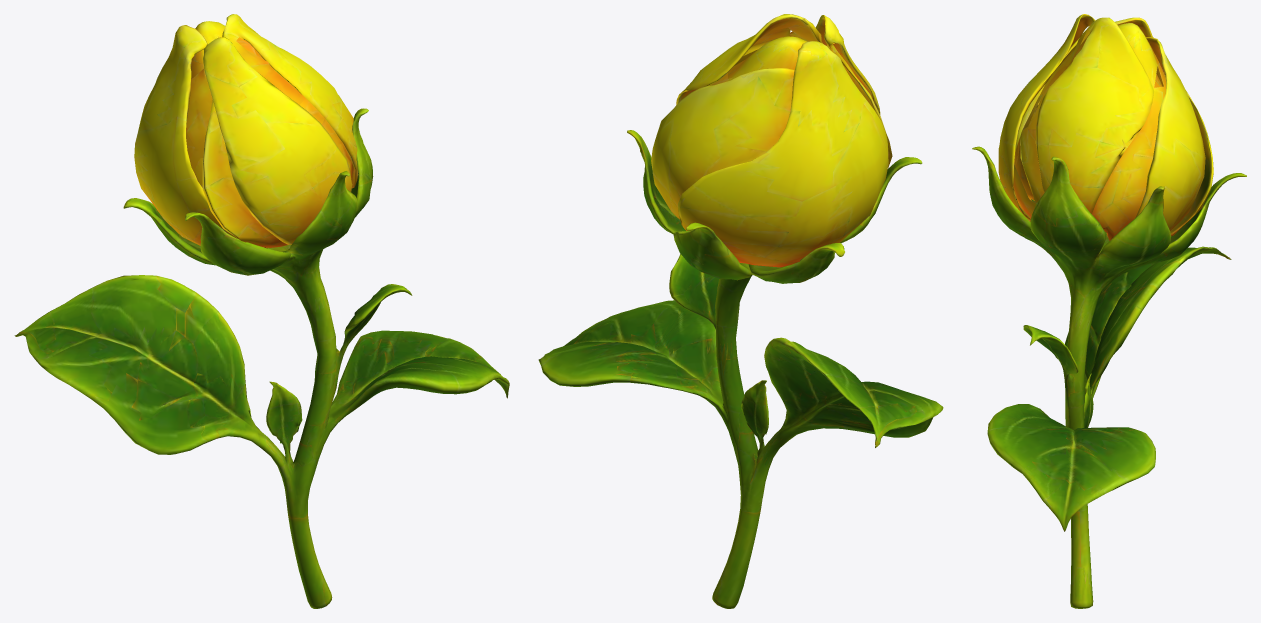
File: bud_yellow.glb
The picture shows the model from 3 angles, left to right: view 1: azimuth 30°, elevation 25°; view 2: azimuth 150°, elevation 25°; view 3: azimuth 270°, elevation 25°; orthographic projection. The views are drawn at different scales.
Parts seen in each view (by area): view 1: geometry_0; view 2: geometry_0; view 3: geometry_0.
Part boxes in pixels (box(x1,y1,x2,y2)): geometry_0: box(14, 14, 509, 608); geometry_0: box(538, 14, 943, 608); geometry_0: box(972, 14, 1246, 608).
Size of the model in its own units: 0.6963 by 0.9507 by 0.4253.
1 material, 1 textured.
